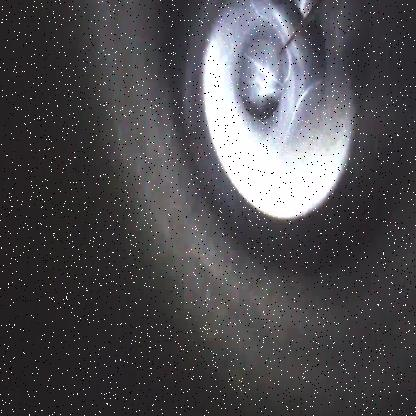NoCrack: (183, 0, 365, 256)
